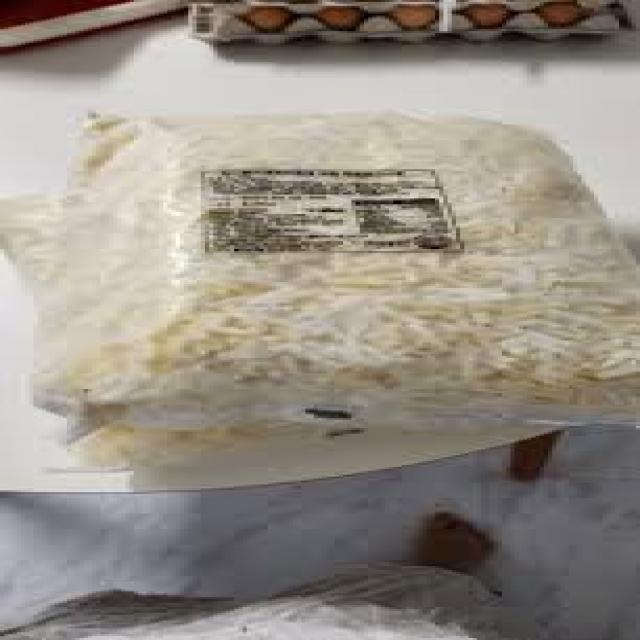cheese: (109, 107, 602, 383)
